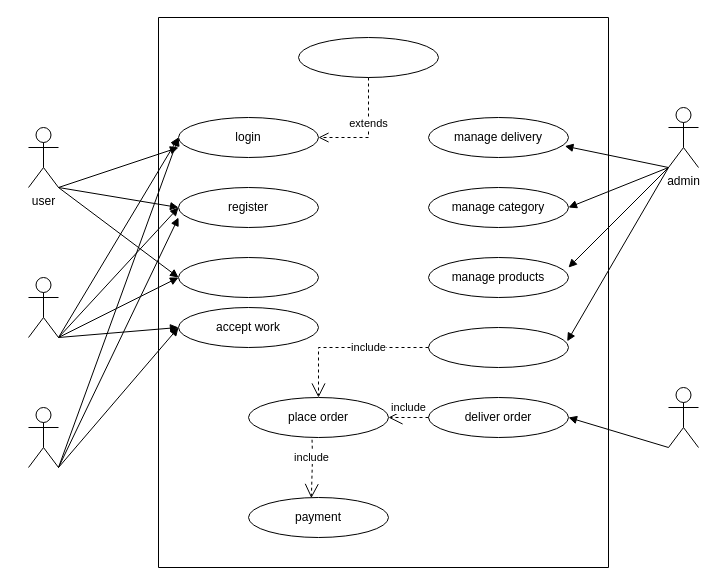
Image size: 721x586. Some labels were removed from this diagram. Each missing label, with the centre of its shape:
"contractor" belongs at point (43, 307).
"delivery" belongs at point (683, 417).
"Invalid username/password" belongs at point (368, 57).
"sales analysis" belongs at point (498, 347).
"search" belongs at point (248, 277).
"worker" belongs at point (43, 437).
